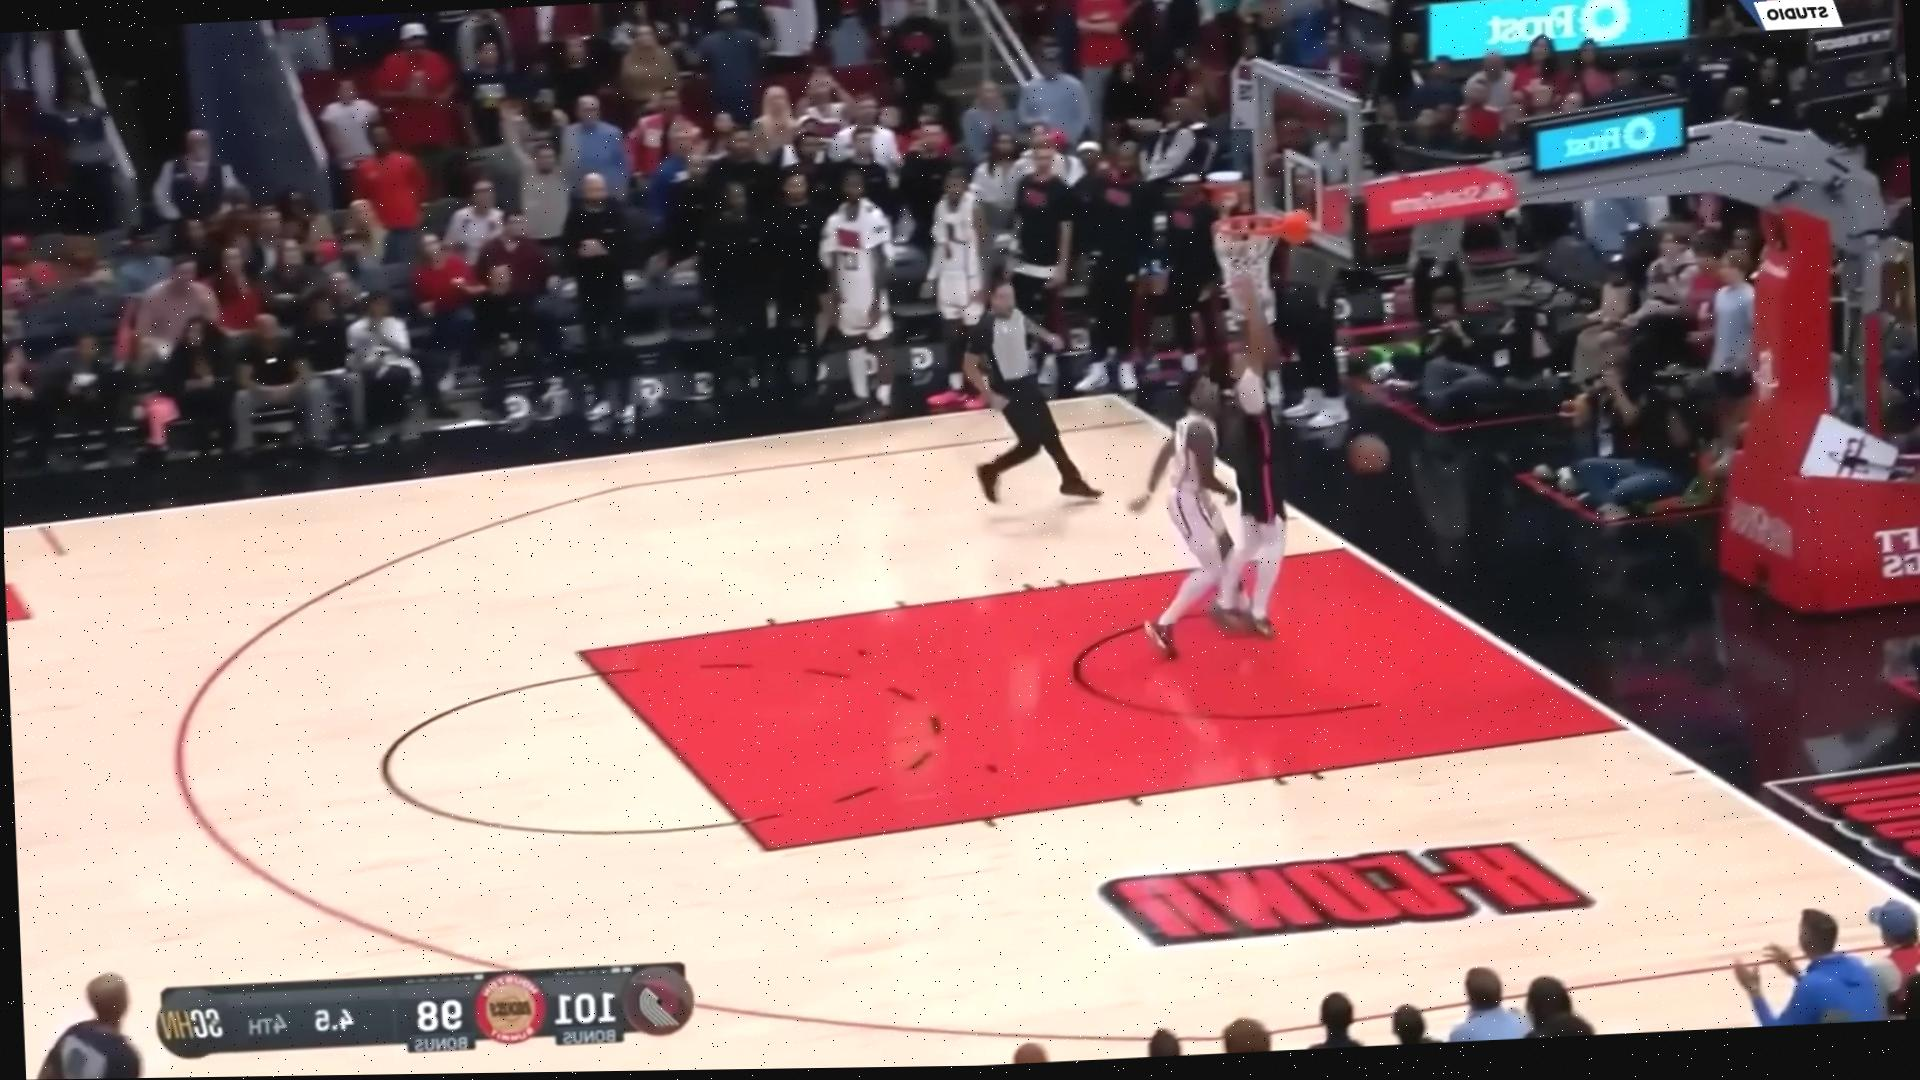foul: (1112, 330, 1315, 680)
